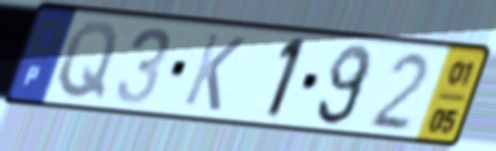1: (265, 36, 312, 124)
2: (365, 49, 433, 134)
3: (113, 25, 173, 106)
9: (313, 40, 375, 129)
K: (179, 30, 249, 115)
Q: (54, 18, 122, 103)
